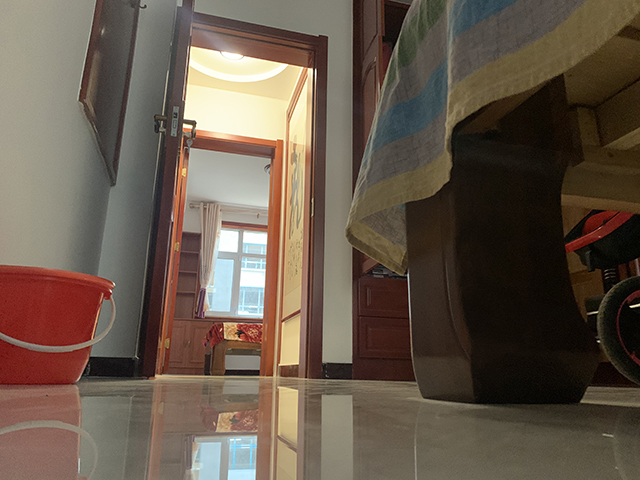bed: (345, 1, 640, 403), (202, 320, 262, 375)
cabinet: (165, 314, 201, 375)
